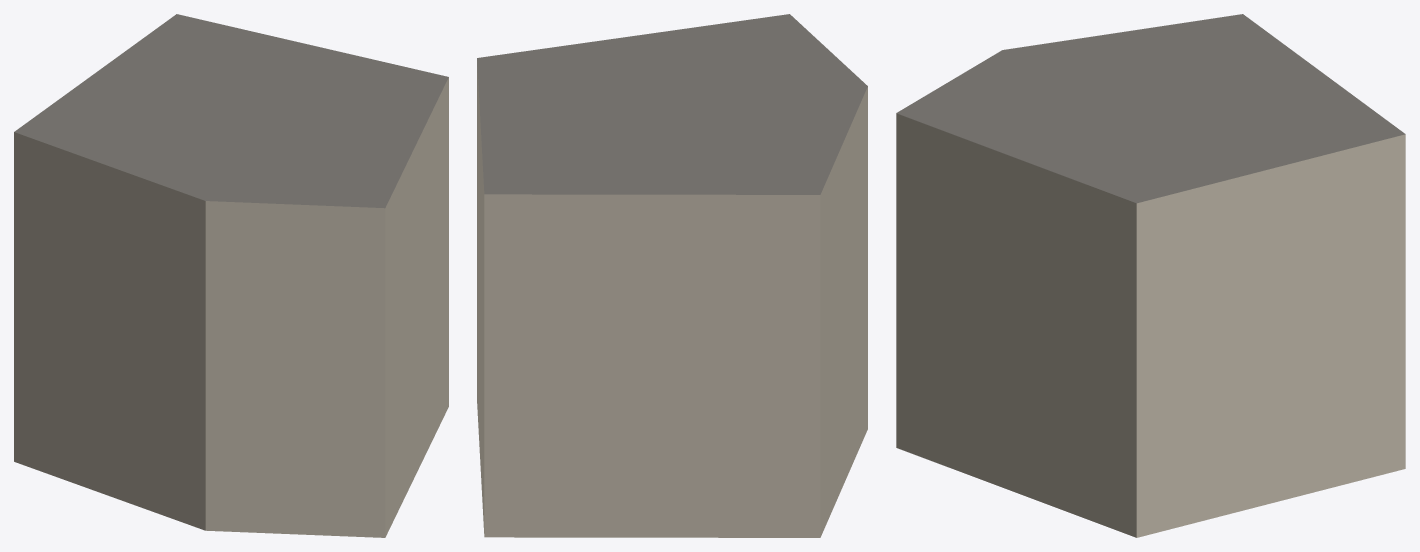
3 views of the same model, side by side, from view 1: azimuth 30°, elevation 25°; view 2: azimuth 150°, elevation 25°; view 3: azimuth 270°, elevation 25° (orthographic). The views are drawn at different scales.
Visible parts, largest first — view 1: HP-w1287262671; view 2: HP-w1287262671; view 3: HP-w1287262671.
Boxes of the visible parts, x1,y1,x2,y2 form: HP-w1287262671: (14,14,448,537); HP-w1287262671: (477,14,867,537); HP-w1287262671: (896,14,1405,537).
Bounding box in the file's own units: 21.85 × 18 × 24.85.
